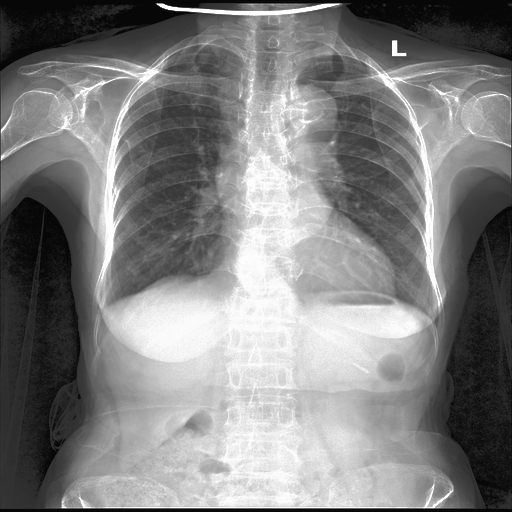Atelectasis: (91, 288, 122, 322)
Calcification: (91, 288, 122, 322)
Consolidation: (275, 86, 337, 159)
Nodule/Mass: (209, 237, 398, 298)
Other lesion: (118, 133, 133, 174)
Pneumothorax: (118, 133, 133, 174)
